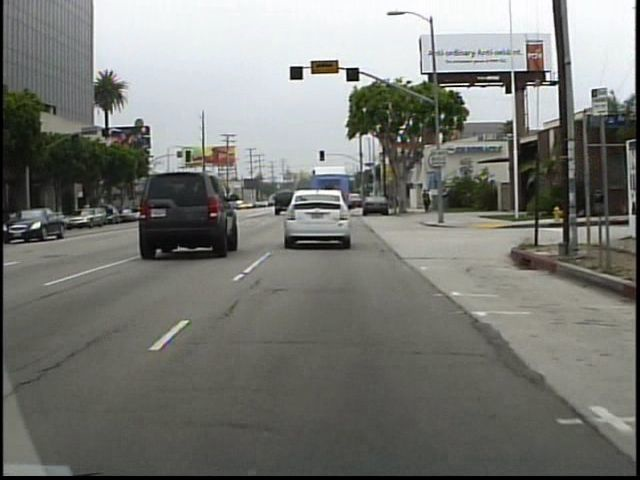person: (421, 188, 432, 214), (426, 187, 434, 214)
